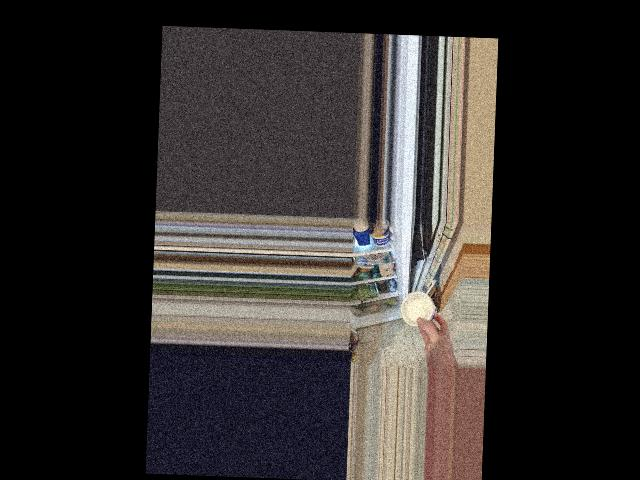cotage: (403, 291, 439, 330)
